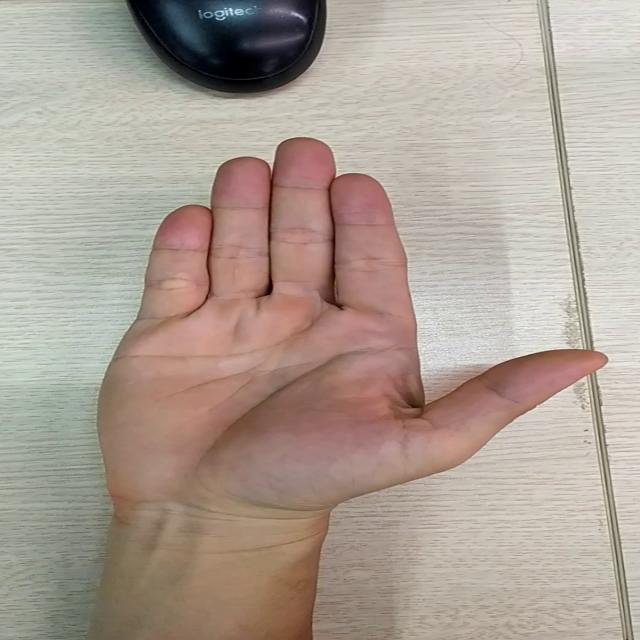hand: (124, 123, 576, 514)
